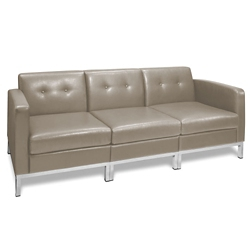chairs: (6, 67, 246, 197)
